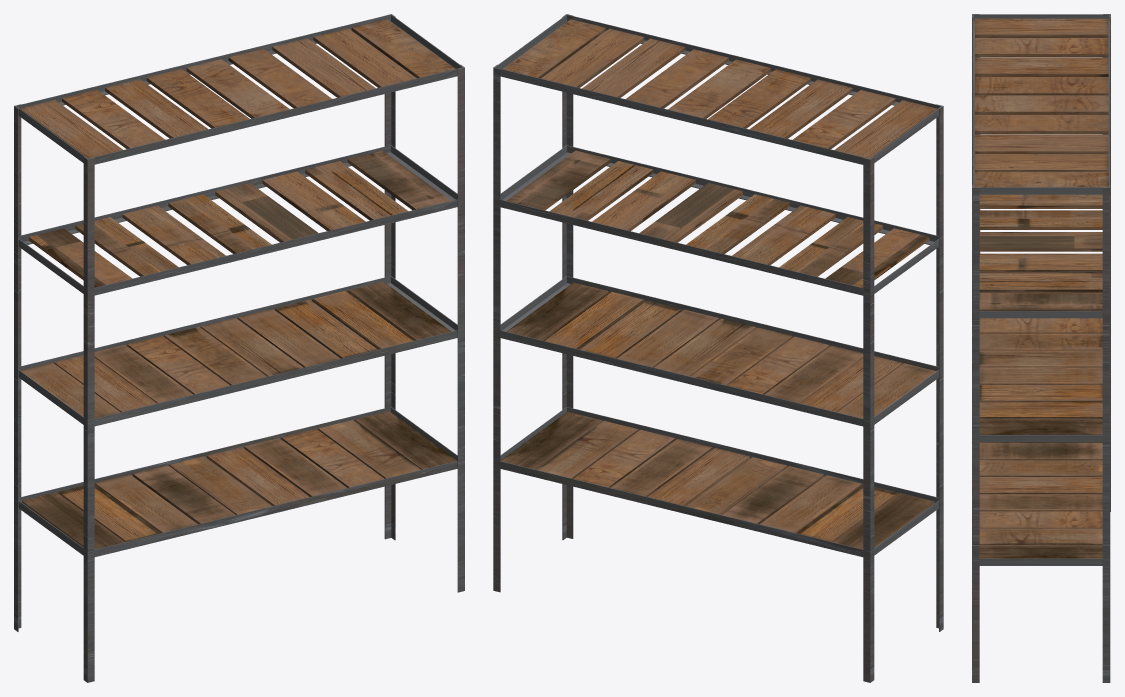
File: rack.glb
The picture shows the model from 3 angles, left to right: view 1: azimuth 30°, elevation 25°; view 2: azimuth 150°, elevation 25°; view 3: azimuth 270°, elevation 25°; orthographic projection. The views are drawn at different scales.
Parts seen in each view (by area): view 1: Cube.004, object 5, object 4, object 3, object 2; view 2: Cube.004, object 5, object 3, object 4, object 2; view 3: object 3, object 4, object 5, object 2, Cube.004.
Boxes of the visible parts, left/top/right/bottom form: Cube.004: left=14, top=14, right=464, bottom=682; object 5: left=22, top=411, right=456, bottom=549; object 4: left=20, top=281, right=451, bottom=418; object 3: left=20, top=19, right=454, bottom=158; object 2: left=29, top=150, right=450, bottom=287; Cube.004: left=493, top=14, right=943, bottom=682; object 5: left=501, top=412, right=934, bottom=549; object 3: left=503, top=19, right=937, bottom=158; object 4: left=506, top=282, right=936, bottom=418; object 2: left=507, top=150, right=929, bottom=287; object 3: left=975, top=18, right=1108, bottom=187; object 4: left=979, top=293, right=1102, bottom=434; object 5: left=979, top=442, right=1102, bottom=558; object 2: left=979, top=194, right=1102, bottom=311; Cube.004: left=972, top=14, right=1110, bottom=682.
Bounding box in the file's own units: 1.51 × 2 × 0.509.
Materials: 2 (2 with a texture image).
